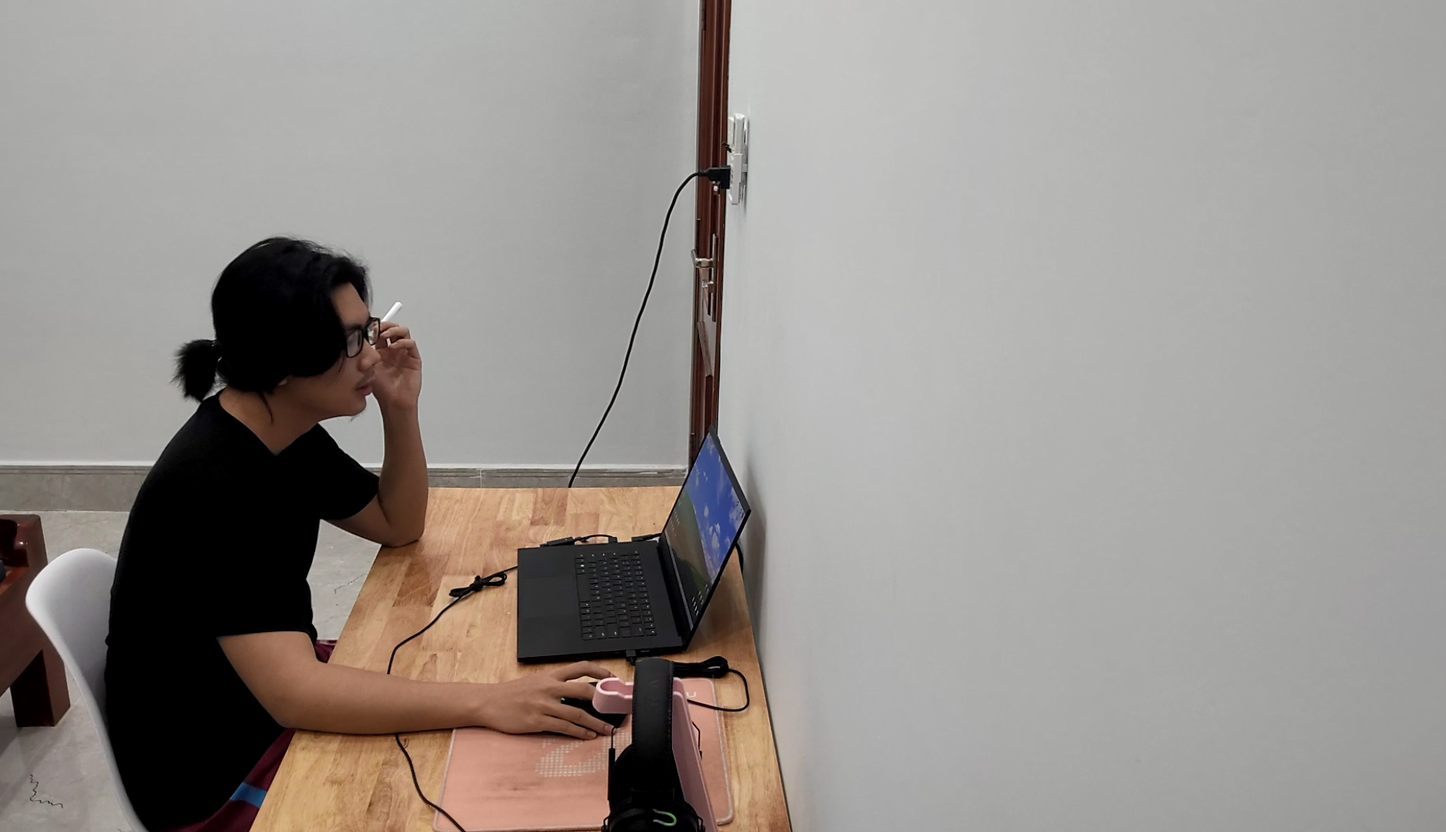cigarette: (376, 294, 409, 331)
person: (97, 205, 437, 832)
